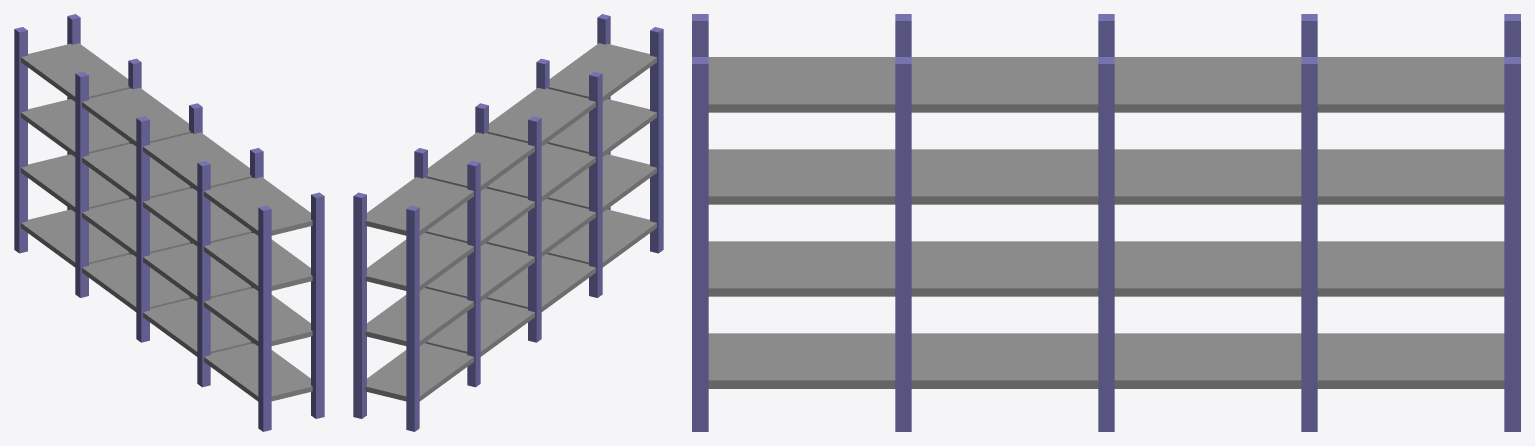
The model's file is shelves-1.glb.
3 views of the same model, side by side, from view 1: azimuth 30°, elevation 25°; view 2: azimuth 150°, elevation 25°; view 3: azimuth 270°, elevation 25° (orthographic). The views are drawn at different scales.
Parts seen in each view (by area): view 1: shelf-1; view 2: shelf-1; view 3: shelf-1.
Part boxes in pixels (x1,y1,x2,y2): shelf-1: (14, 14, 324, 431); shelf-1: (353, 14, 663, 431); shelf-1: (692, 14, 1520, 431).
Bounding box in the file's own units: 4.65 × 16 × 32.65.
